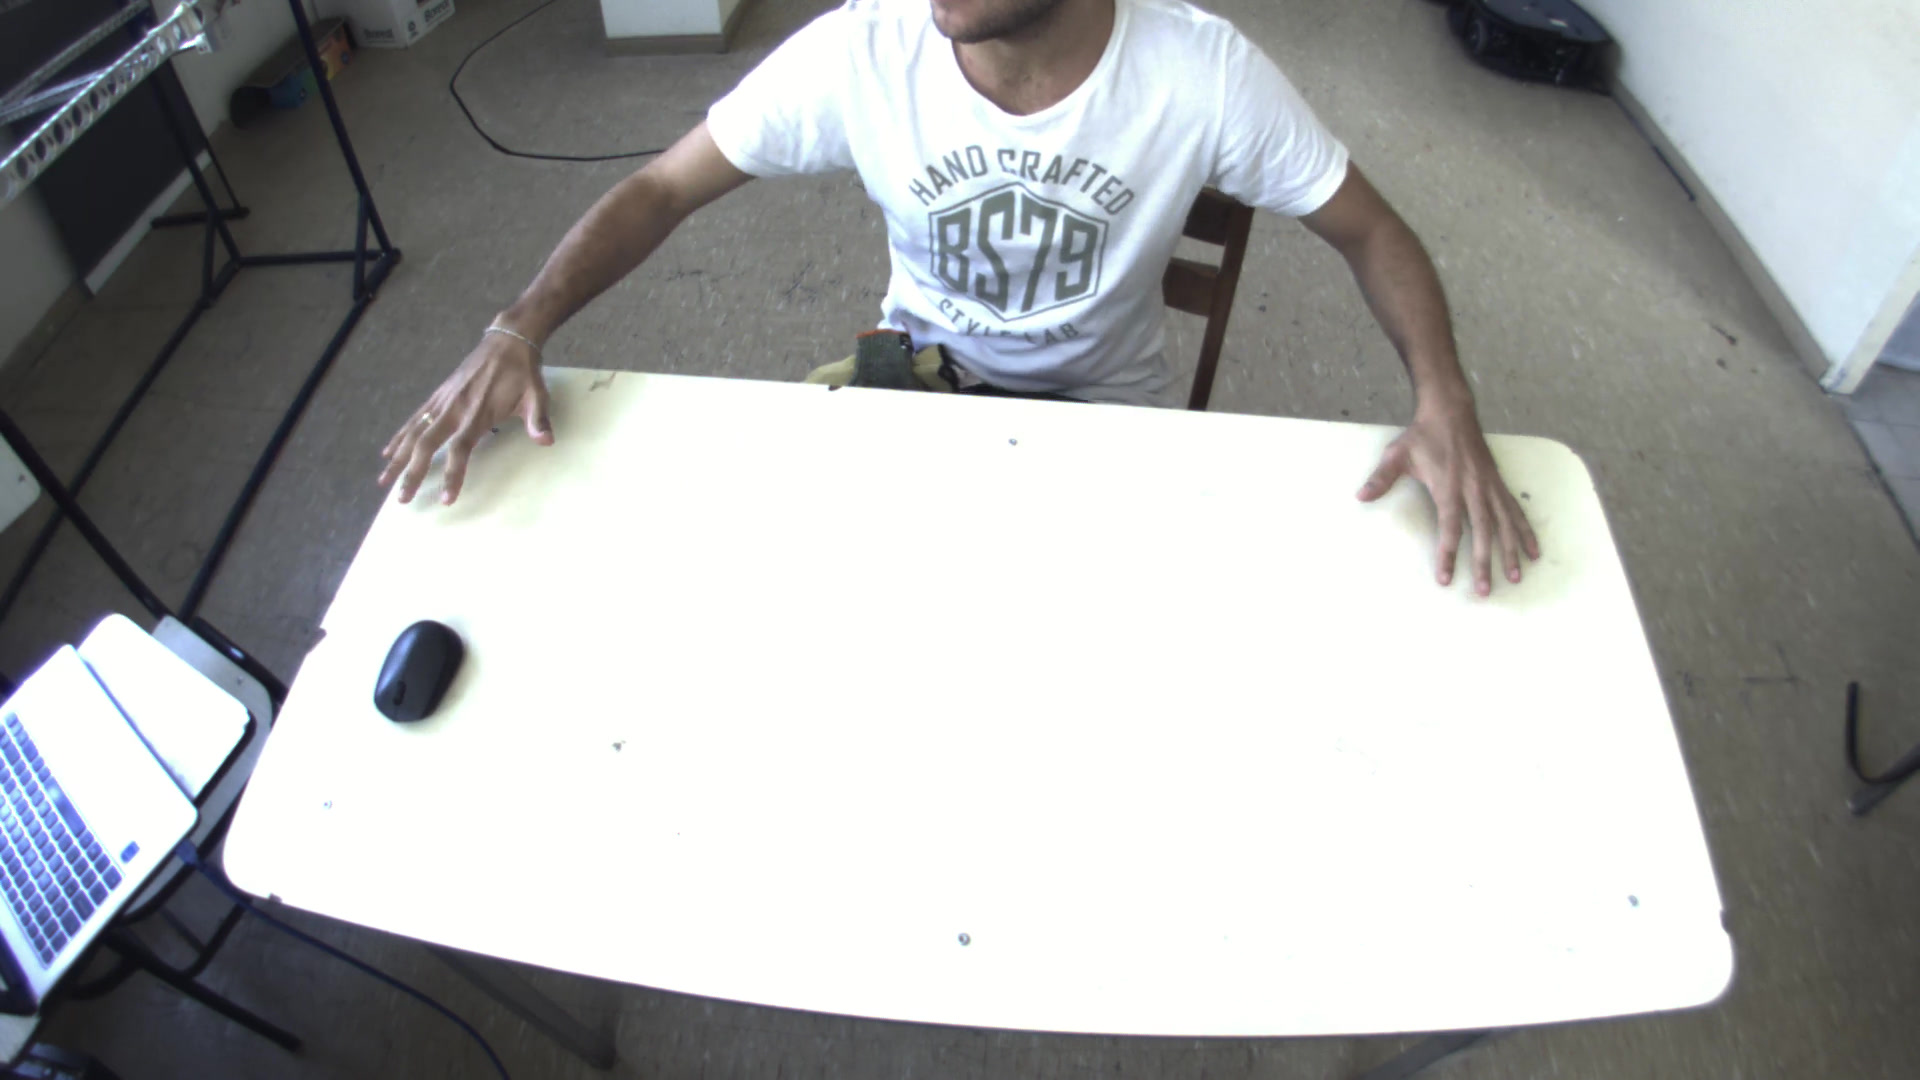hand: (357, 305, 564, 517), (1360, 385, 1560, 601)
